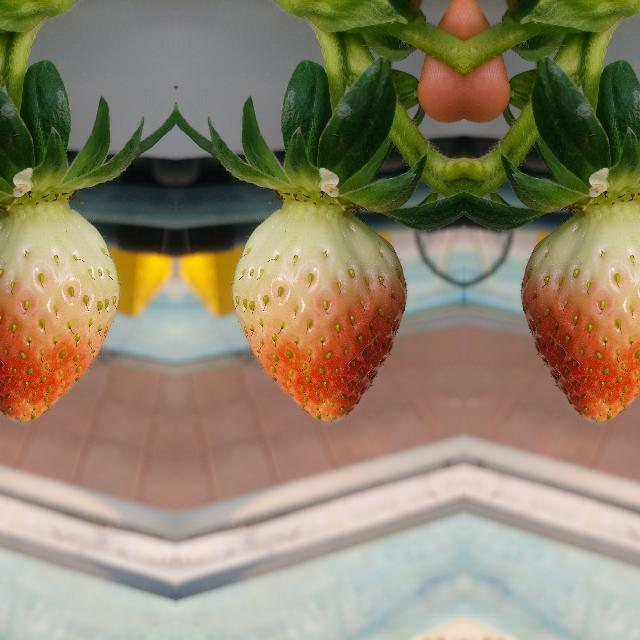Health_50: (229, 203, 407, 423), (0, 203, 121, 423), (519, 203, 640, 423)
